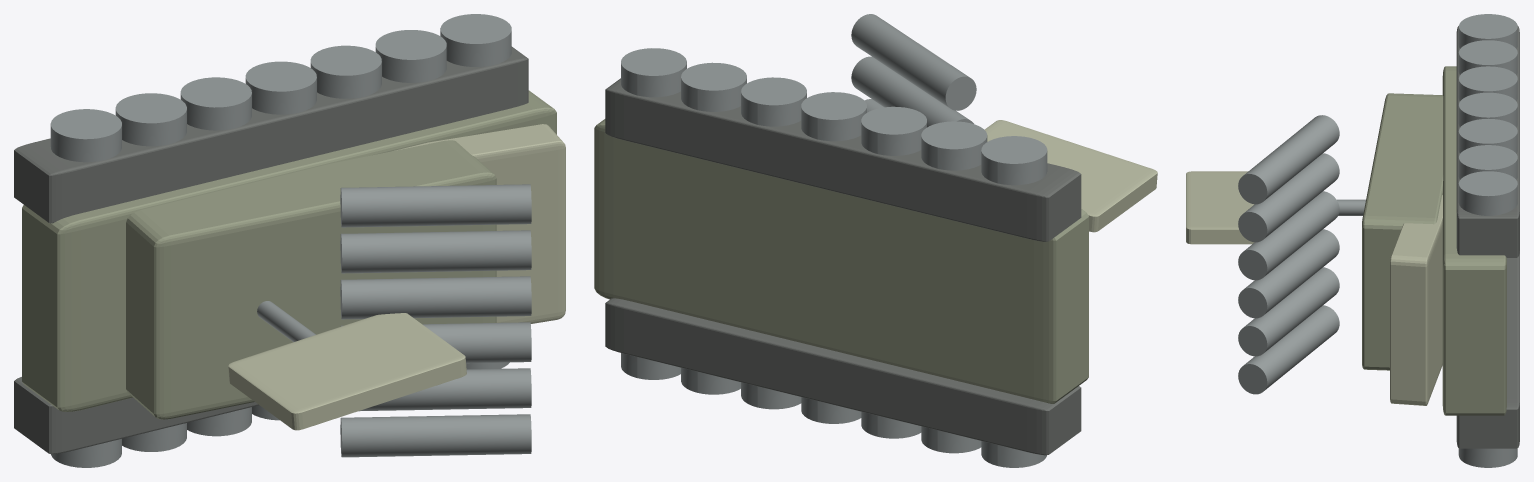
File: v-u15-vanguard-mobile-sam-lod1.glb
The picture shows the model from 3 angles, left to right: view 1: azimuth 30°, elevation 25°; view 2: azimuth 150°, elevation 25°; view 3: azimuth 270°, elevation 25°; orthographic projection. The views are drawn at different scales.
Visible parts, largest first — view 1: upper_hull, chassis_track_1, chassis_lower, sam_radar_array, chassis_glacis, sam_tube_6, sam_tube_5, sam_tube_1, sam_tube_4, chassis_track_-1, sam_tube_2, sam_tube_3 (+11 smaller); view 2: chassis_lower, chassis_track_-1, chassis_track_1, sam_radar_array, sam_tube_6, sam_tube_5, chassis_roadwheel_1_0, chassis_roadwheel_1_1, chassis_roadwheel_1_3, chassis_roadwheel_1_4, chassis_roadwheel_1_2, chassis_roadwheel_1_6 (+8 smaller); view 3: upper_hull, chassis_lower, chassis_glacis, sam_radar_array, chassis_track_-1, chassis_track_1, sam_tube_6, sam_tube_1, sam_tube_3, sam_tube_2, sam_tube_4, sam_tube_5 (+9 smaller).
Boxes of the visible parts, x1,y1,x2,y2 form: upper_hull: [126, 140, 496, 419]; chassis_track_1: [14, 46, 528, 223]; chassis_lower: [22, 90, 556, 411]; sam_radar_array: [228, 313, 466, 430]; chassis_glacis: [394, 124, 565, 323]; sam_tube_6: [340, 184, 531, 227]; sam_tube_5: [340, 230, 531, 273]; sam_tube_1: [340, 414, 531, 457]; sam_tube_4: [340, 276, 531, 319]; chassis_track_-1: [14, 377, 258, 454]; sam_tube_2: [359, 368, 531, 411]; sam_tube_3: [340, 322, 531, 363]; chassis_lower: [594, 119, 1088, 403]; chassis_track_-1: [605, 298, 1081, 455]; chassis_track_1: [605, 78, 1081, 241]; sam_radar_array: [984, 120, 1157, 232]; sam_tube_6: [851, 14, 976, 110]; sam_tube_5: [851, 56, 973, 127]; chassis_roadwheel_1_0: [981, 136, 1047, 185]; chassis_roadwheel_1_1: [921, 121, 987, 170]; chassis_roadwheel_1_3: [801, 92, 866, 141]; chassis_roadwheel_1_4: [741, 77, 806, 126]; chassis_roadwheel_1_2: [861, 106, 926, 155]; chassis_roadwheel_1_6: [621, 48, 686, 97]; upper_hull: [1362, 93, 1443, 370]; chassis_lower: [1442, 66, 1506, 415]; chassis_glacis: [1390, 195, 1442, 405]; sam_radar_array: [1186, 171, 1254, 244]; chassis_track_-1: [1456, 251, 1519, 448]; chassis_track_1: [1456, 26, 1519, 257]; sam_tube_6: [1238, 115, 1339, 204]; sam_tube_1: [1238, 305, 1339, 394]; sam_tube_3: [1238, 229, 1339, 318]; sam_tube_2: [1238, 267, 1339, 356]; sam_tube_4: [1238, 191, 1339, 280]; sam_tube_5: [1238, 153, 1339, 242].
Size of what is drawn, in the model's own units: 6.1 by 3.83 by 4.27.
